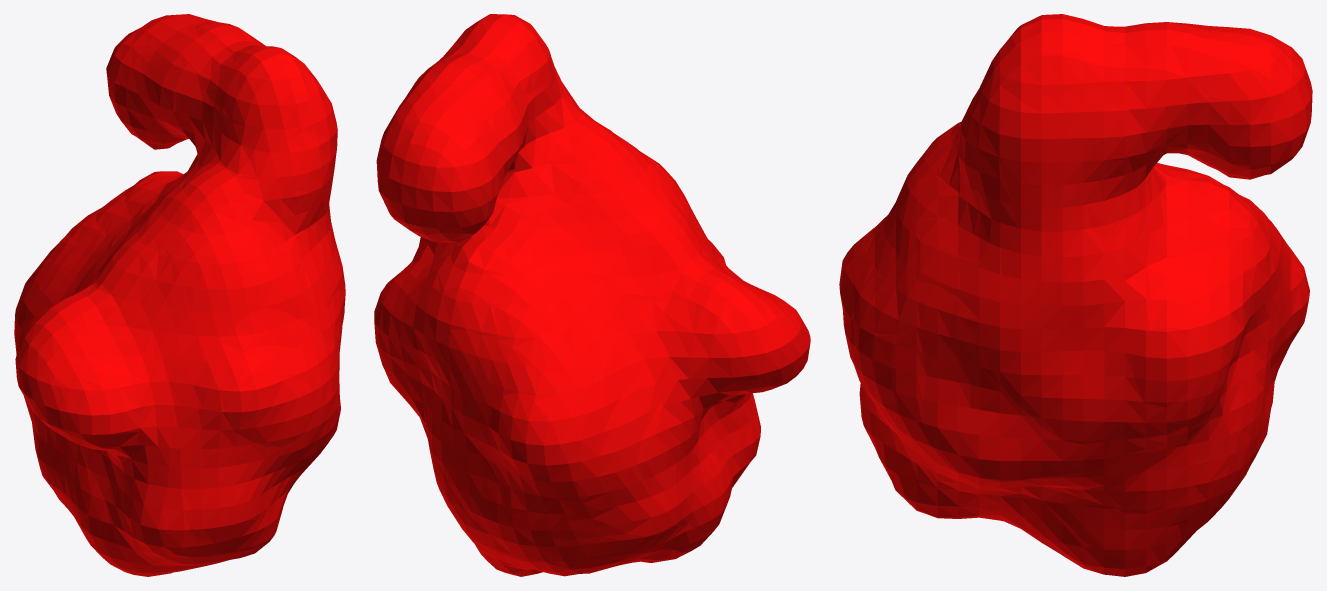
The model's file is Protein_disulfide_isomerase_A6_coarse.dae.
3 views of the same model, side by side, from view 1: azimuth 30°, elevation 25°; view 2: azimuth 150°, elevation 25°; view 3: azimuth 270°, elevation 25° (orthographic). The views are drawn at different scales.
Visible parts, largest first — view 1: Protein_disulfide_isomerase_A6; view 2: Protein_disulfide_isomerase_A6; view 3: Protein_disulfide_isomerase_A6.
Part boxes in pixels (left/top/right/bottom): Protein_disulfide_isomerase_A6: left=14, top=14, right=345, bottom=576; Protein_disulfide_isomerase_A6: left=374, top=14, right=810, bottom=576; Protein_disulfide_isomerase_A6: left=839, top=14, right=1312, bottom=576.
Bounding box in the file's own units: 39.87 × 56.74 × 41.72.
